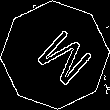M_SW: (21, 21, 89, 89)
